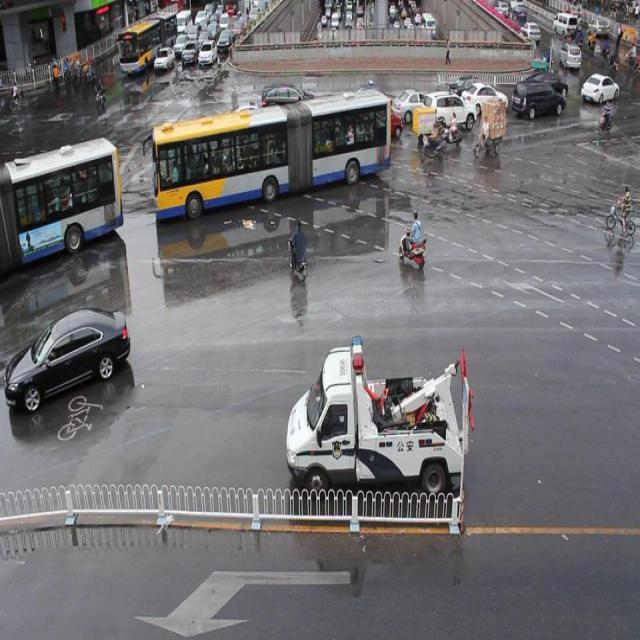bus: (285, 338, 464, 498)
car: (0, 305, 130, 410), (422, 91, 476, 132), (510, 80, 564, 118), (460, 82, 506, 116), (391, 89, 433, 124), (522, 70, 567, 98), (448, 75, 489, 103)
van: (154, 88, 388, 222)
